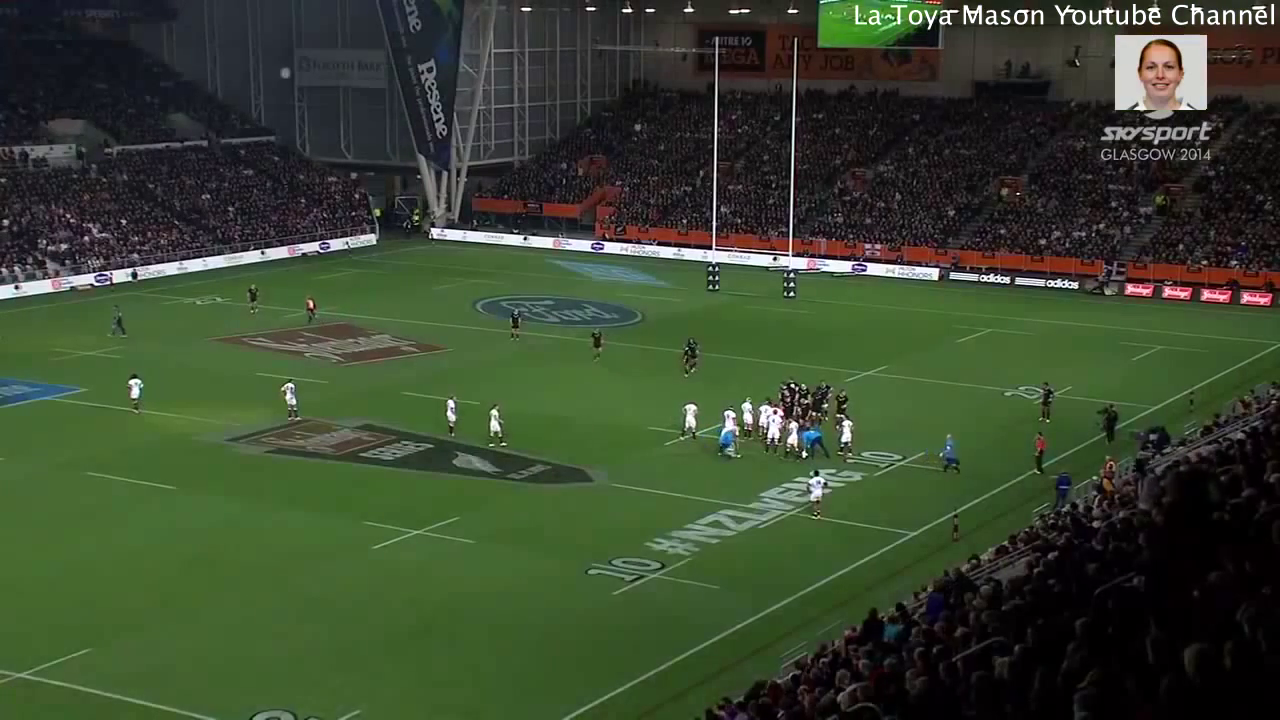10_metre: (705, 25, 804, 303), (581, 550, 725, 599), (362, 507, 482, 554), (849, 444, 948, 478)
player: (934, 429, 964, 480), (803, 468, 827, 528), (121, 369, 152, 415), (485, 400, 513, 447), (105, 298, 133, 344), (799, 423, 832, 462), (441, 389, 465, 441), (281, 373, 303, 428), (585, 321, 608, 372), (710, 424, 743, 458), (679, 395, 698, 444), (795, 382, 814, 431), (764, 406, 782, 457), (836, 414, 856, 457), (832, 385, 850, 431), (782, 418, 802, 459), (245, 277, 265, 317), (739, 394, 755, 444), (505, 307, 524, 349), (775, 381, 795, 418), (752, 400, 772, 437), (685, 337, 704, 375), (810, 387, 825, 429), (819, 377, 835, 416), (303, 296, 319, 328), (679, 341, 693, 377), (719, 404, 744, 423), (785, 377, 804, 398)
